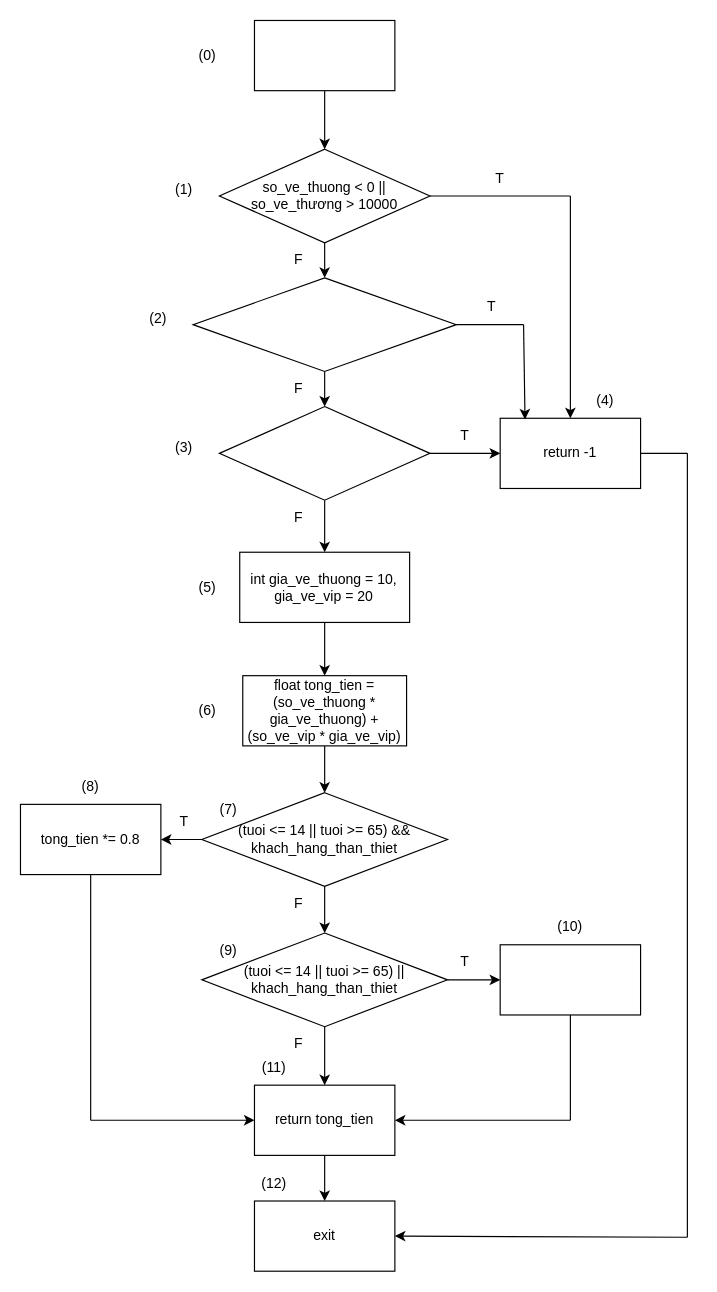
This 717x1292 diagram has some shape labels left out. Each missing label, with the centre of its shape:
"entry" belongs at (324,55).
"so_ve_vip < 0 || so_ve_vip > 10000" belongs at (324,324).
"tong_tien *= 0.9" belongs at (570,979).
"tuoi <= 0 || tuoi > 150" belongs at (324,452).
